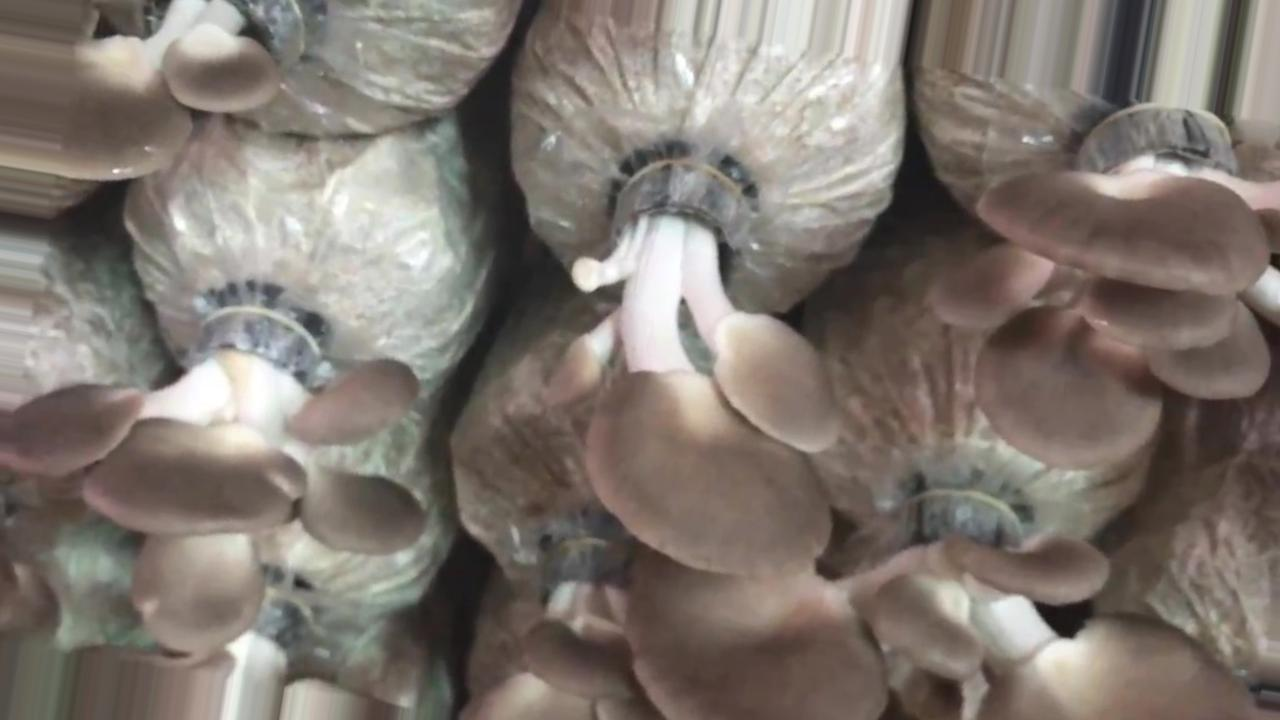nam: (627, 471, 1267, 720), (1, 285, 427, 658), (550, 145, 848, 581), (930, 103, 1278, 473), (3, 1, 311, 184), (456, 506, 669, 720)
